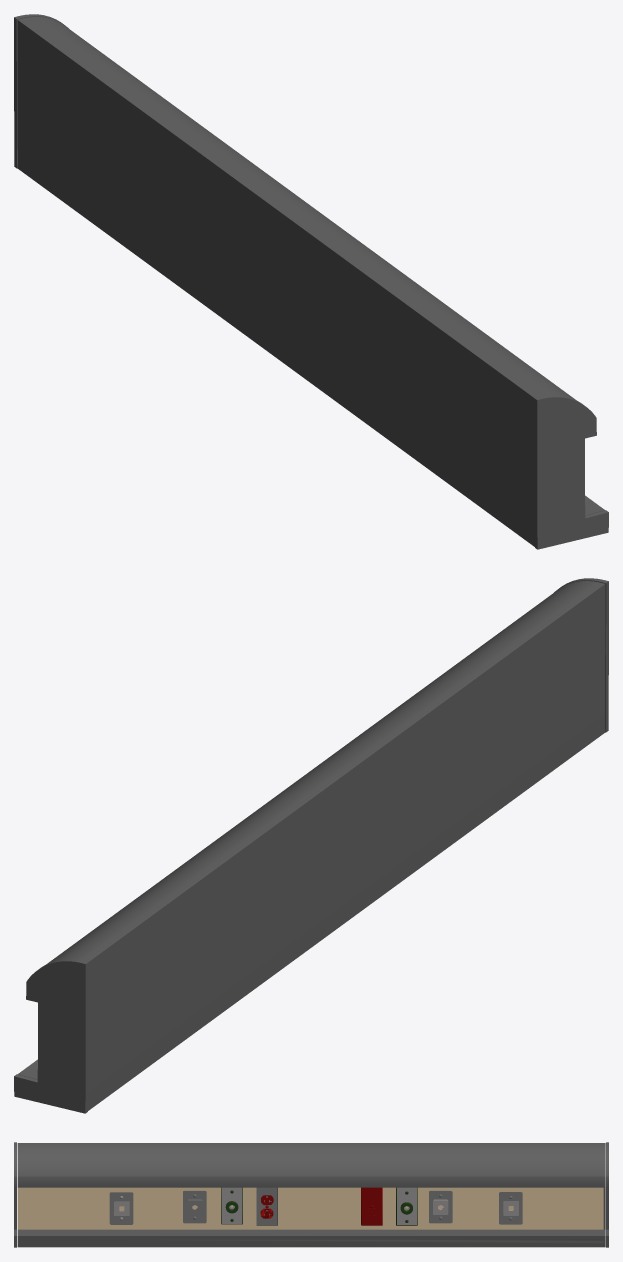
Rendered from PowerPanel.fbx.
3 renders of one model, top to bottom at view 1: azimuth 30°, elevation 25°; view 2: azimuth 150°, elevation 25°; view 3: azimuth 270°, elevation 25°, orthographic. The views are drawn at different scales.
Visible parts, largest first — view 1: Main_Panel; view 2: Main_Panel; view 3: Main_Panel, Plate4, Plate5, Plate6, Outlet3, Plate1, Plate2, Plate7, Plate8.
Boxes of the visible parts, x1,y1,x2,y2 form: Main_Panel: [14, 14, 608, 549]; Main_Panel: [14, 578, 608, 1113]; Main_Panel: [14, 1142, 608, 1247]; Plate4: [256, 1187, 277, 1225]; Plate5: [361, 1187, 382, 1225]; Plate6: [396, 1187, 417, 1225]; Outlet3: [221, 1187, 242, 1224]; Plate1: [109, 1192, 133, 1224]; Plate2: [183, 1190, 206, 1223]; Plate7: [429, 1190, 452, 1223]; Plate8: [499, 1192, 522, 1224].
Bounding box in the file's own units: 9.01 × 17.96 × 114.
